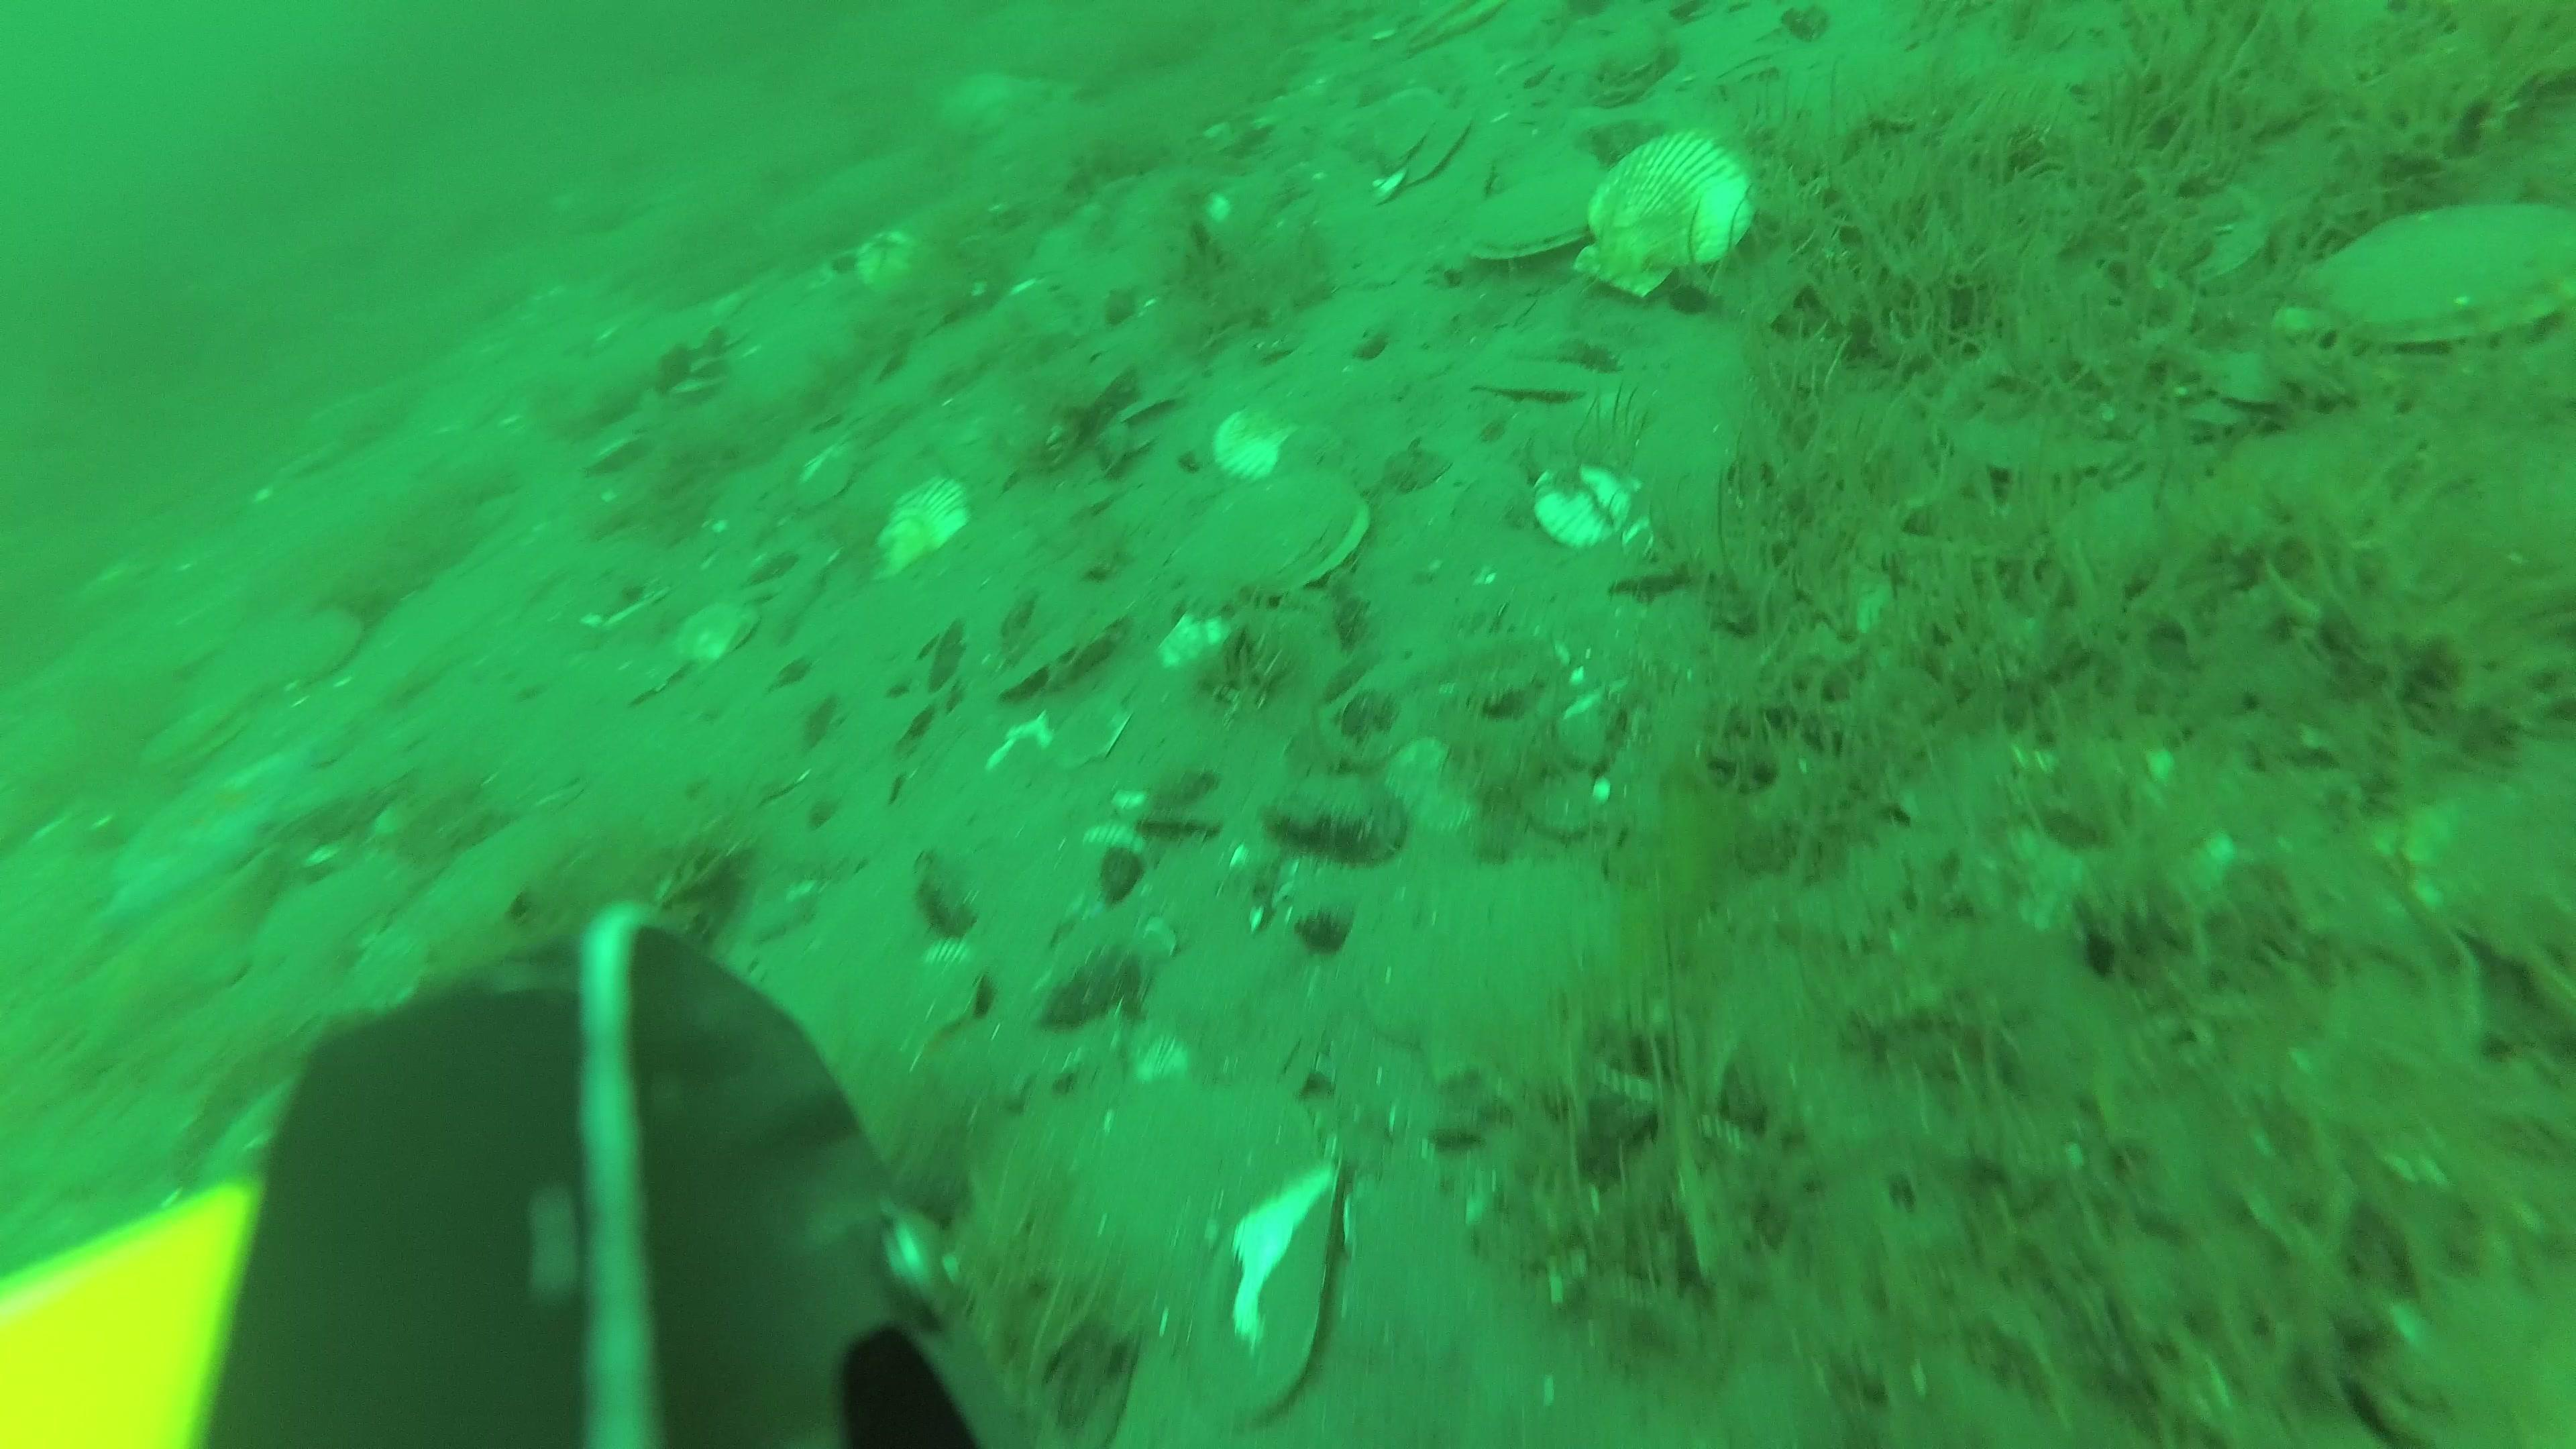scallop: (2273, 205, 2576, 349), (1189, 467, 1369, 614), (1580, 145, 1748, 287), (1468, 156, 1606, 257), (1527, 460, 1651, 545), (1376, 111, 1468, 207), (1355, 83, 1435, 182), (879, 485, 966, 573), (147, 695, 244, 773), (801, 423, 879, 511), (292, 596, 361, 692), (1408, 0, 1507, 58), (679, 603, 754, 674), (1207, 405, 1283, 474), (856, 230, 927, 294)
starfish: (115, 743, 322, 957)
